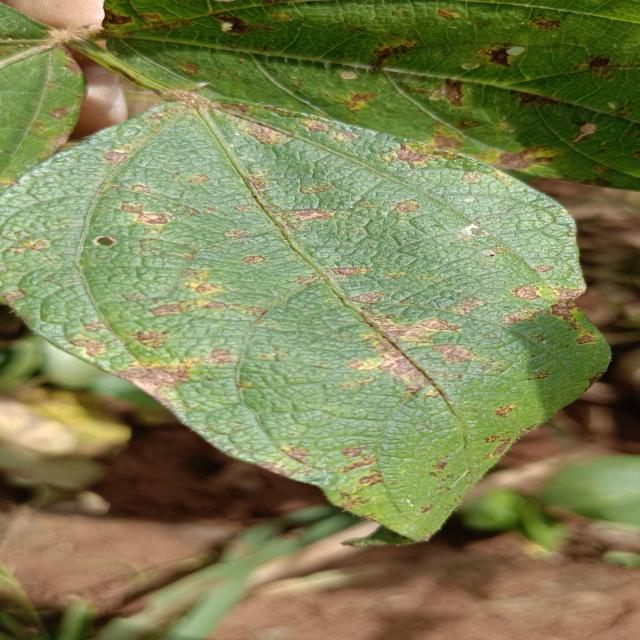Black gram_leaf spot: (0, 84, 615, 551), (77, 0, 640, 185)
